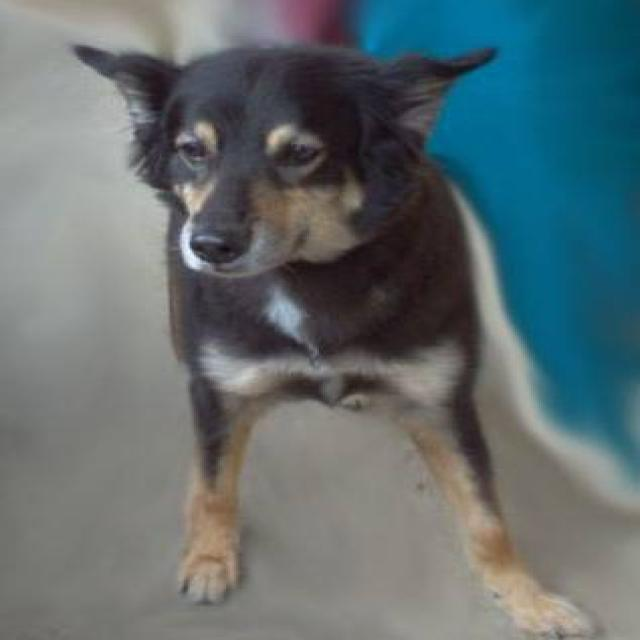dog: (71, 39, 638, 639)
